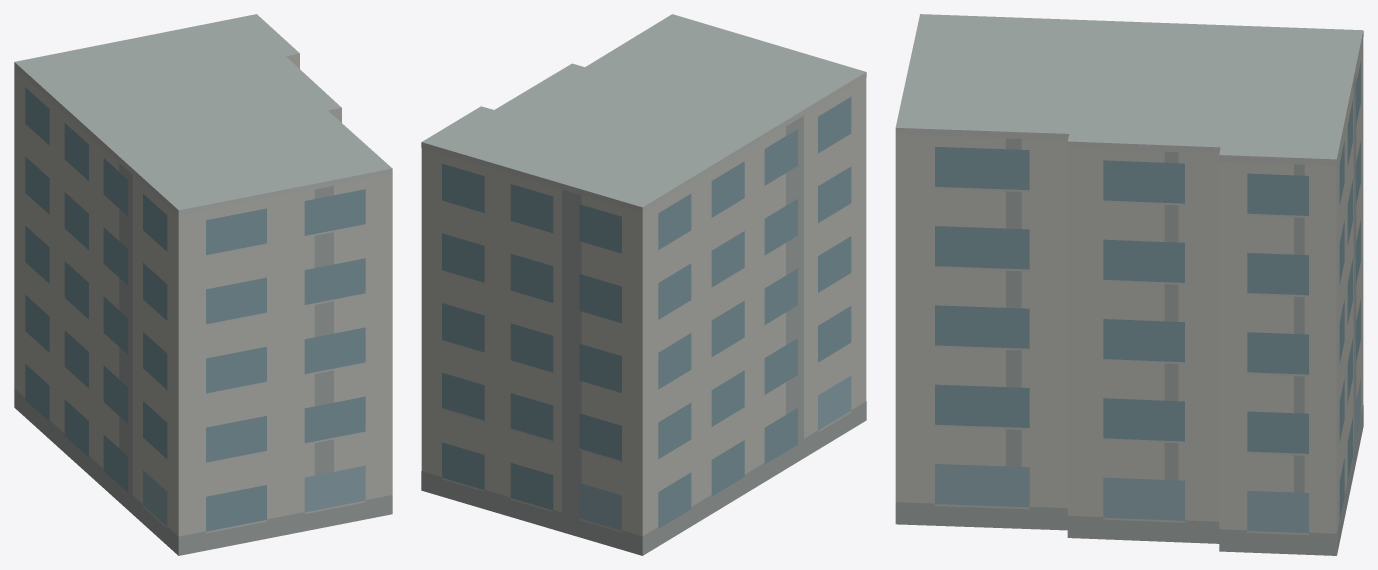
Rendered from survey-upis-32763906.glb.
The picture shows the model from 3 angles, left to right: view 1: azimuth 30°, elevation 25°; view 2: azimuth 150°, elevation 25°; view 3: azimuth 270°, elevation 25°; orthographic projection. The views are drawn at different scales.
Visible parts, largest first — view 1: survey-upis-32763906.tmp; view 2: survey-upis-32763906.tmp; view 3: survey-upis-32763906.tmp.
Part boxes in pixels (bbox=[...]): survey-upis-32763906.tmp: bbox=[14, 14, 392, 555]; survey-upis-32763906.tmp: bbox=[421, 14, 866, 555]; survey-upis-32763906.tmp: bbox=[895, 14, 1363, 555].
Size of the model in its own units: 11.49 by 14.6 by 15.62.
